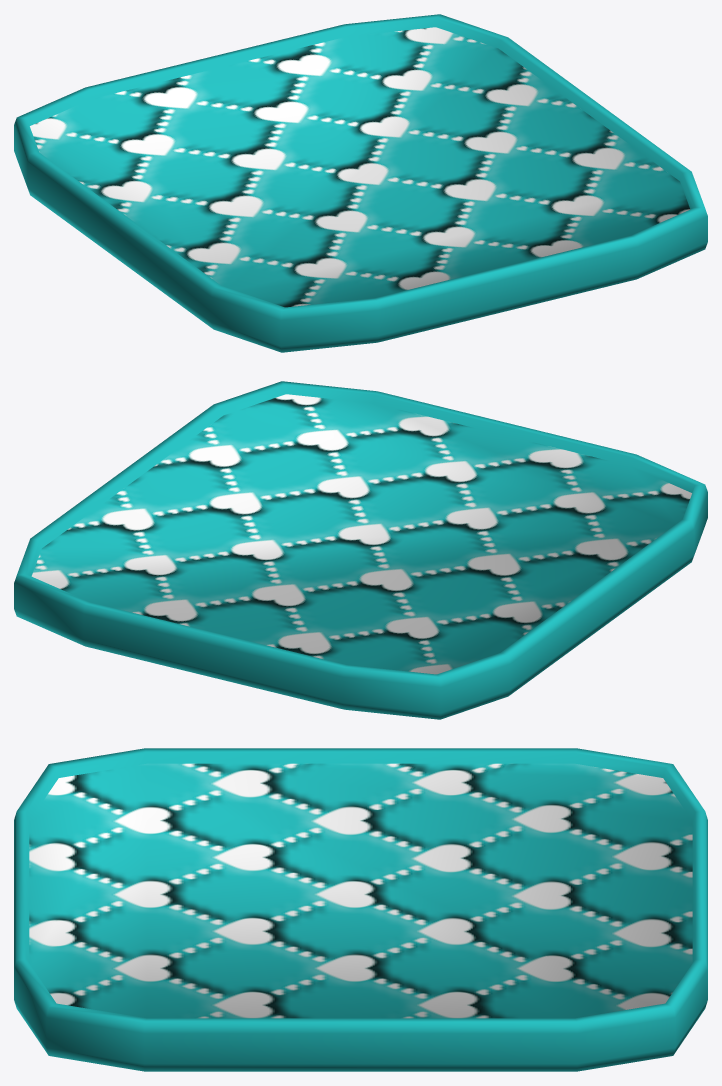
The model's file is Hotpad_B.FBX.
3 renders of one model, top to bottom at view 1: azimuth 30°, elevation 25°; view 2: azimuth 150°, elevation 25°; view 3: azimuth 270°, elevation 25°, orthographic. The views are drawn at different scales.
Parts seen in each view (by area): view 1: Hotpad; view 2: Hotpad; view 3: Hotpad.
Boxes of the visible parts, <box> form: Hotpad: <box>14,14,707,352</box>; Hotpad: <box>14,381,707,719</box>; Hotpad: <box>14,748,707,1071</box>.
Size of the model in its own units: 60.89 by 4.97 by 64.36.
